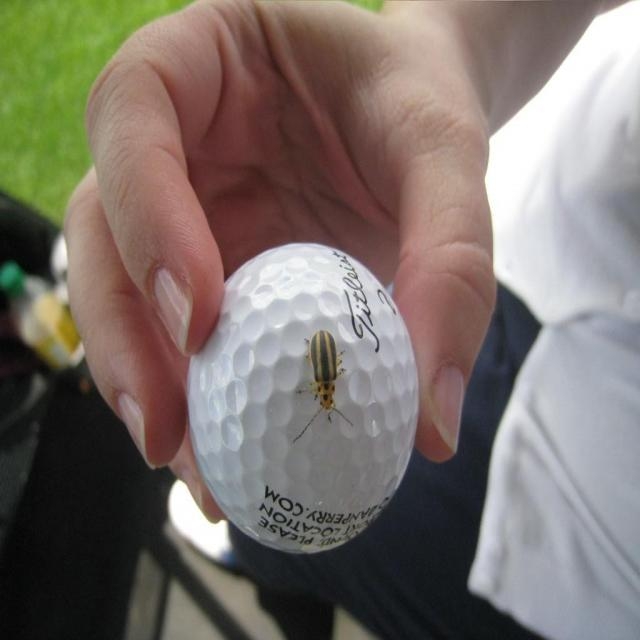GolfBall: (188, 237, 426, 560)
